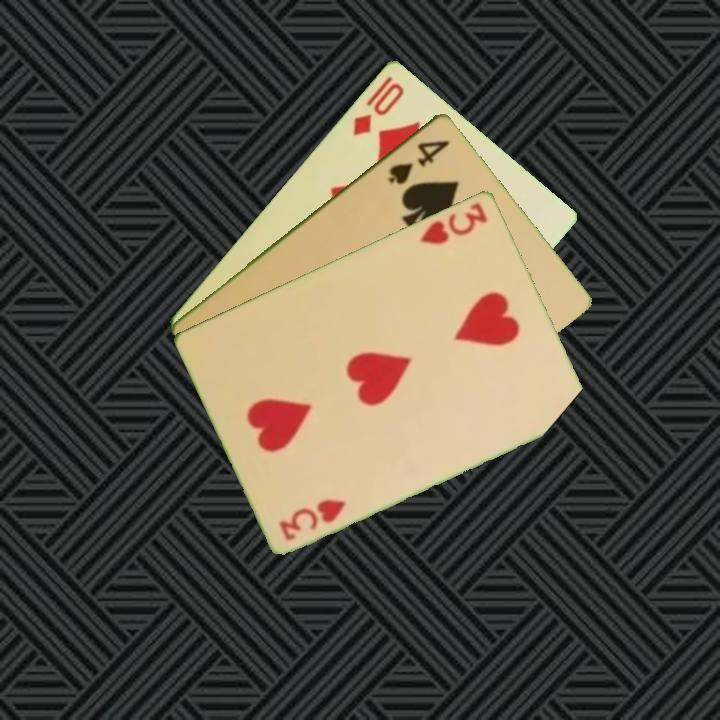10d: (348, 78, 408, 139)
3h: (416, 198, 491, 247), (275, 495, 350, 543)
4s: (384, 135, 453, 187)
